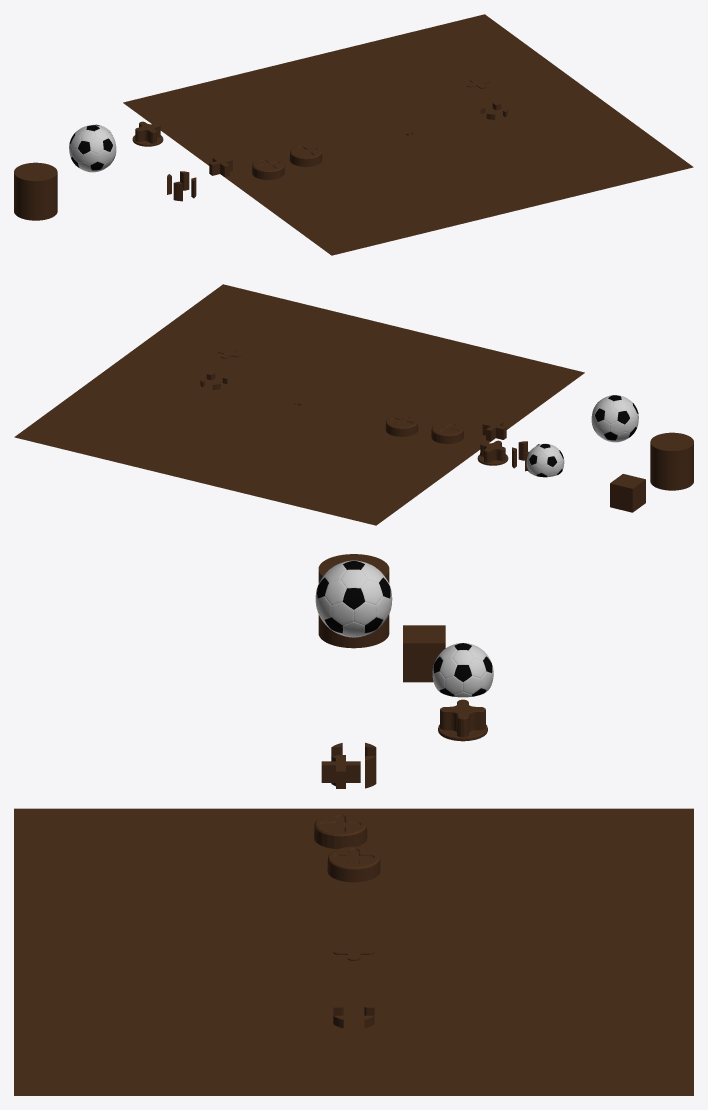
Rendered from NuPhy-Soccer-Ball.obj.
3 views of the same model, one above another, from view 1: azimuth 30°, elevation 25°; view 2: azimuth 150°, elevation 25°; view 3: azimuth 270°, elevation 25° (orthographic). The views are drawn at different scales.
Parts seen in each view (by area): view 1: 平面, 柱体, Ball.001, XUANNIU-GAO, 柱体.003, XUANNIU-AI.001, 柱体.001, 立方体.003; view 2: 平面, 柱体, Ball.001, 立方体.005, Ball, XUANNIU-GAO, 柱体.003, XUANNIU-AI.001, 立方体.003; view 3: 平面, Ball.001, Ball, 立方体.005, 柱体, 柱体.003, XUANNIU-GAO, XUANNIU-AI.001, 立方体.003.
Boxes of the visible parts, box(x1,y1,x2,y2) form: 平面: box(123, 14, 693, 255); 柱体: box(14, 162, 57, 220); Ball.001: box(69, 125, 116, 172); XUANNIU-GAO: box(252, 158, 284, 179); 柱体.003: box(289, 145, 322, 166); XUANNIU-AI.001: box(132, 121, 163, 146); 柱体.001: box(167, 171, 196, 201); 立方体.003: box(209, 156, 232, 177); 平面: box(14, 284, 584, 525); 柱体: box(650, 432, 693, 490); Ball.001: box(591, 395, 638, 442); 立方体.005: box(610, 474, 645, 512); Ball: box(526, 443, 564, 477); XUANNIU-GAO: box(431, 422, 463, 443); 柱体.003: box(385, 415, 418, 436); XUANNIU-AI.001: box(477, 440, 508, 465); 立方体.003: box(482, 420, 506, 441); 平面: box(14, 808, 693, 1095); Ball.001: box(315, 560, 392, 637); Ball: box(432, 643, 493, 697); 立方体.005: box(403, 625, 445, 682); 柱体: box(318, 554, 389, 648); 柱体.003: box(327, 846, 380, 882); XUANNIU-GAO: box(314, 813, 367, 848); XUANNIU-AI.001: box(438, 699, 487, 741); 立方体.003: box(321, 755, 360, 788).
Size of the model in its own units: 407 by 64.92 by 258.
